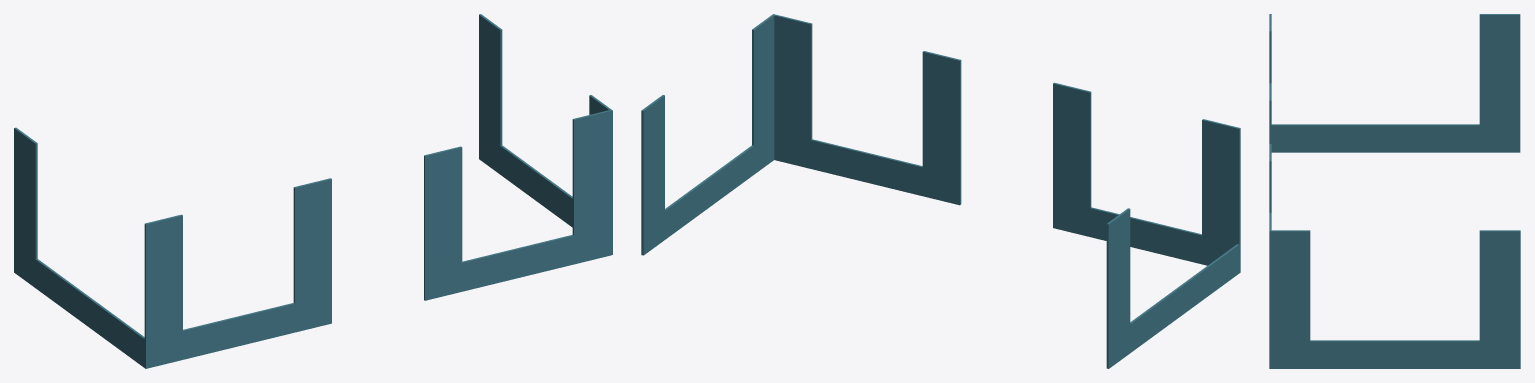
The model's file is tembok1.obj.
3 views of the same model, side by side, from view 1: azimuth 30°, elevation 25°; view 2: azimuth 150°, elevation 25°; view 3: azimuth 270°, elevation 25° (orthographic). The views are drawn at different scales.
Parts seen in each view (by area): view 1: Cube.087, Cube.086, Cube.008, Cube.088, Cube.085, Cube.084, Cube.080, Cube.089, Cube.082, Cube.083, Cube.090; view 2: Cube.084, Cube.087, Cube.086, Cube.085, Cube.088, Cube.081, Cube.080, Cube.089, Cube.082, Cube.090, Cube.083; view 3: Cube.083, Cube.080, Cube.090, Cube.089, Cube.082.
Boxes of the visible parts, x1=… form: Cube.087: x1=424, y1=146, x2=462, y2=300; Cube.086: x1=572, y1=110, x2=610, y2=258; Cube.008: x1=146, y1=300, x2=331, y2=368; Cube.088: x1=293, y1=178, x2=331, y2=311; Cube.085: x1=144, y1=214, x2=182, y2=368; Cube.084: x1=425, y1=235, x2=610, y2=300; Cube.080: x1=14, y1=259, x2=145, y2=368; Cube.089: x1=479, y1=14, x2=502, y2=174; Cube.082: x1=14, y1=127, x2=37, y2=284; Cube.083: x1=500, y1=145, x2=572, y2=227; Cube.090: x1=589, y1=95, x2=612, y2=255; Cube.084: x1=774, y1=131, x2=959, y2=205; Cube.087: x1=922, y1=51, x2=961, y2=204; Cube.086: x1=774, y1=14, x2=812, y2=165; Cube.085: x1=1202, y1=119, x2=1240, y2=272; Cube.088: x1=1053, y1=82, x2=1091, y2=207; Cube.081: x1=1053, y1=199, x2=1236, y2=265; Cube.080: x1=1109, y1=244, x2=1240, y2=368; Cube.089: x1=641, y1=95, x2=664, y2=255; Cube.082: x1=1106, y1=208, x2=1130, y2=368; Cube.090: x1=752, y1=14, x2=774, y2=174; Cube.083: x1=665, y1=139, x2=774, y2=239; Cube.083: x1=1269, y1=340, x2=1519, y2=368; Cube.080: x1=1271, y1=124, x2=1519, y2=152; Cube.090: x1=1269, y1=230, x2=1310, y2=368; Cube.089: x1=1479, y1=230, x2=1520, y2=368; Cube.082: x1=1479, y1=14, x2=1520, y2=152.
Size of the model in its own units: 67.66 by 20.01 by 33.08.
